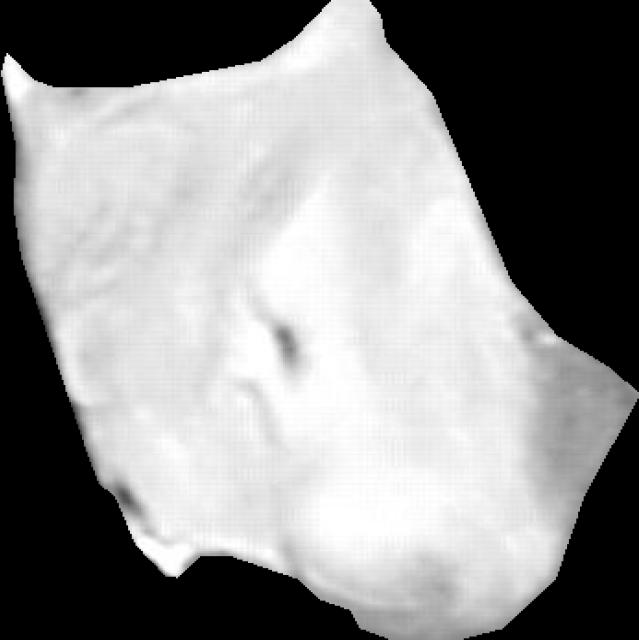tumor_good_chance: (1, 0, 639, 640)
